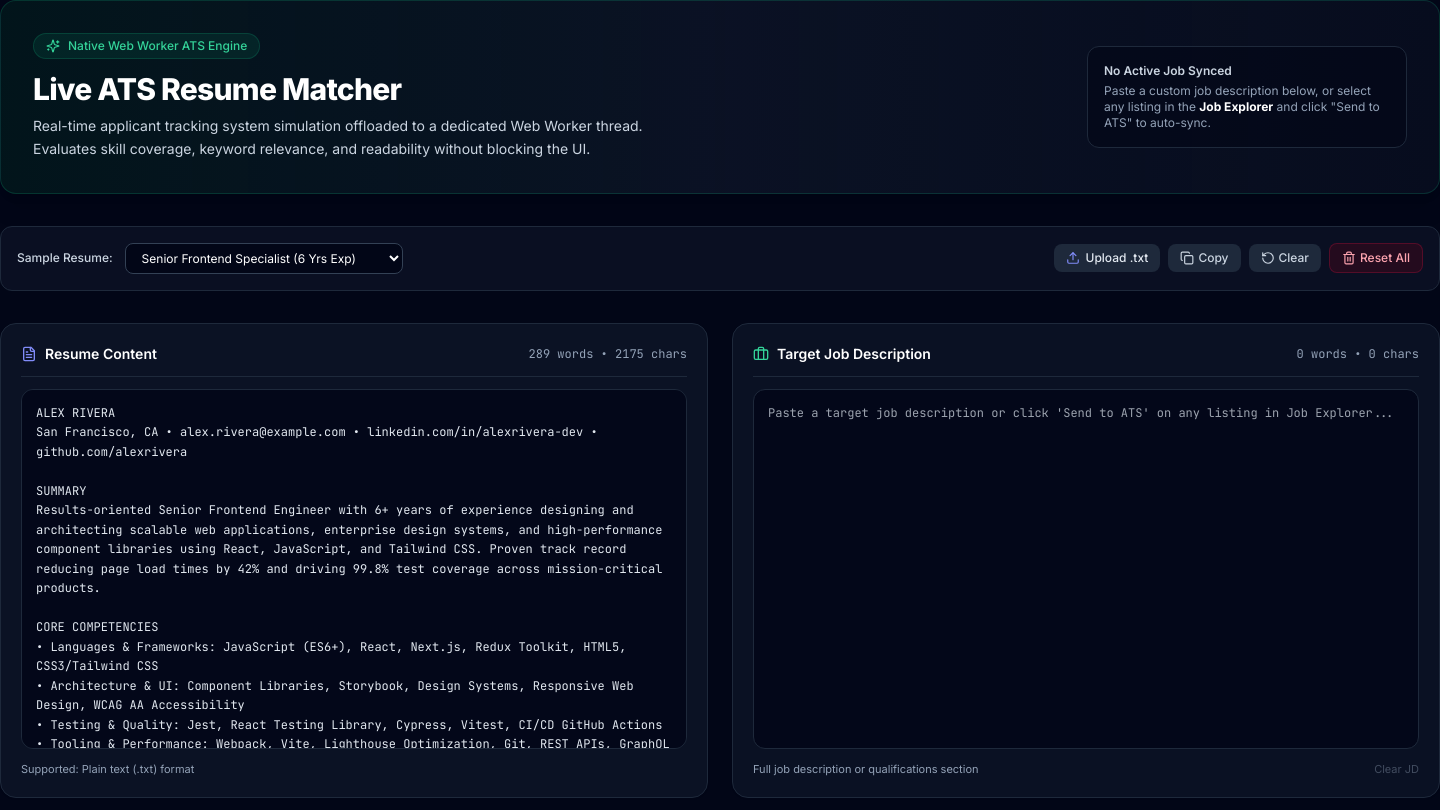
Module 2: Complete ATS Matcher UI Tests › clears both inputs and results when Reset All is clicked
The image size is (1440, 810).
Replace the text in the text box labelled "Target Job Description" with "Testing JD text". click: (1086, 568)
box: [753, 388, 1419, 748]
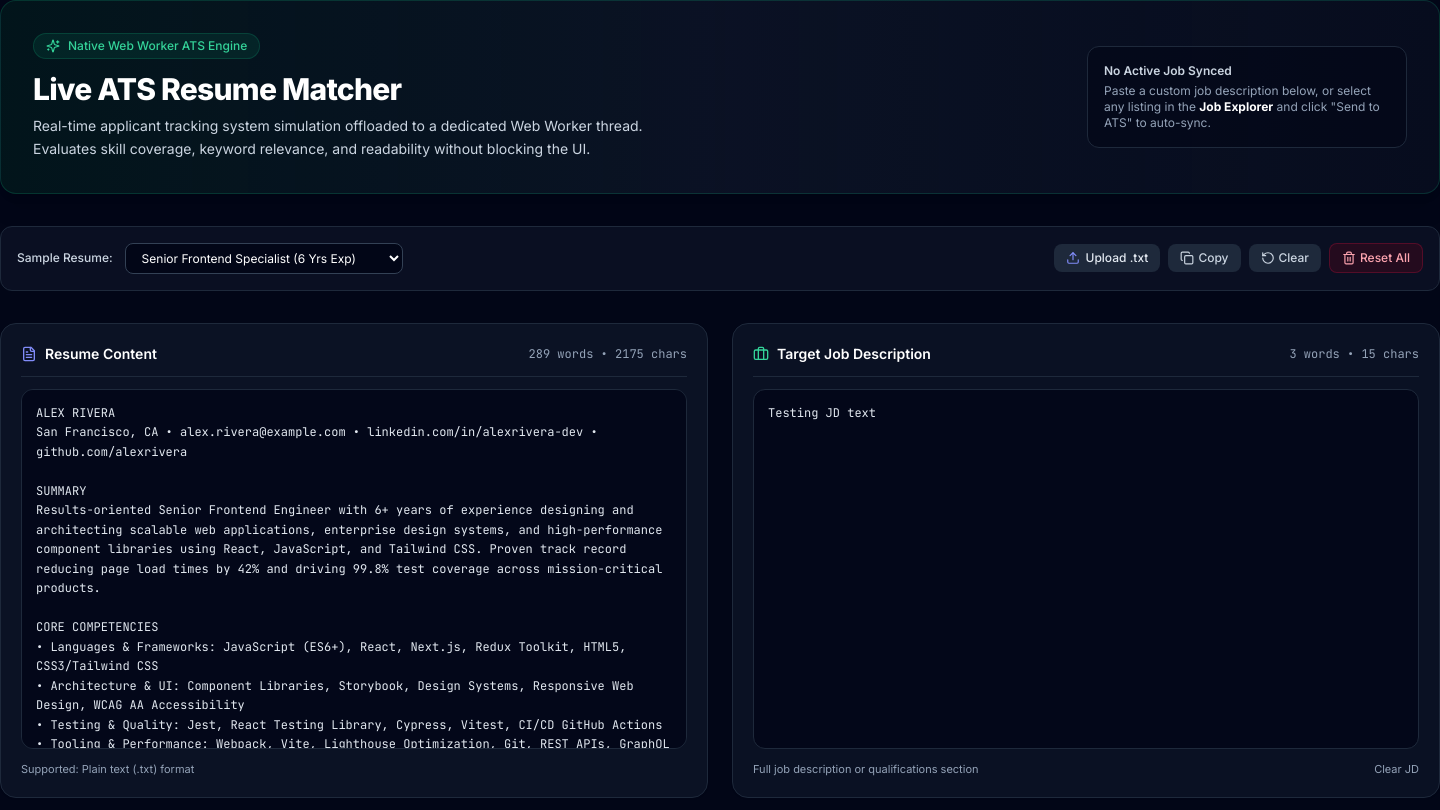
Click the button "Reset All". click: (1376, 258)
box: [1329, 243, 1423, 273]
(page scrolled)
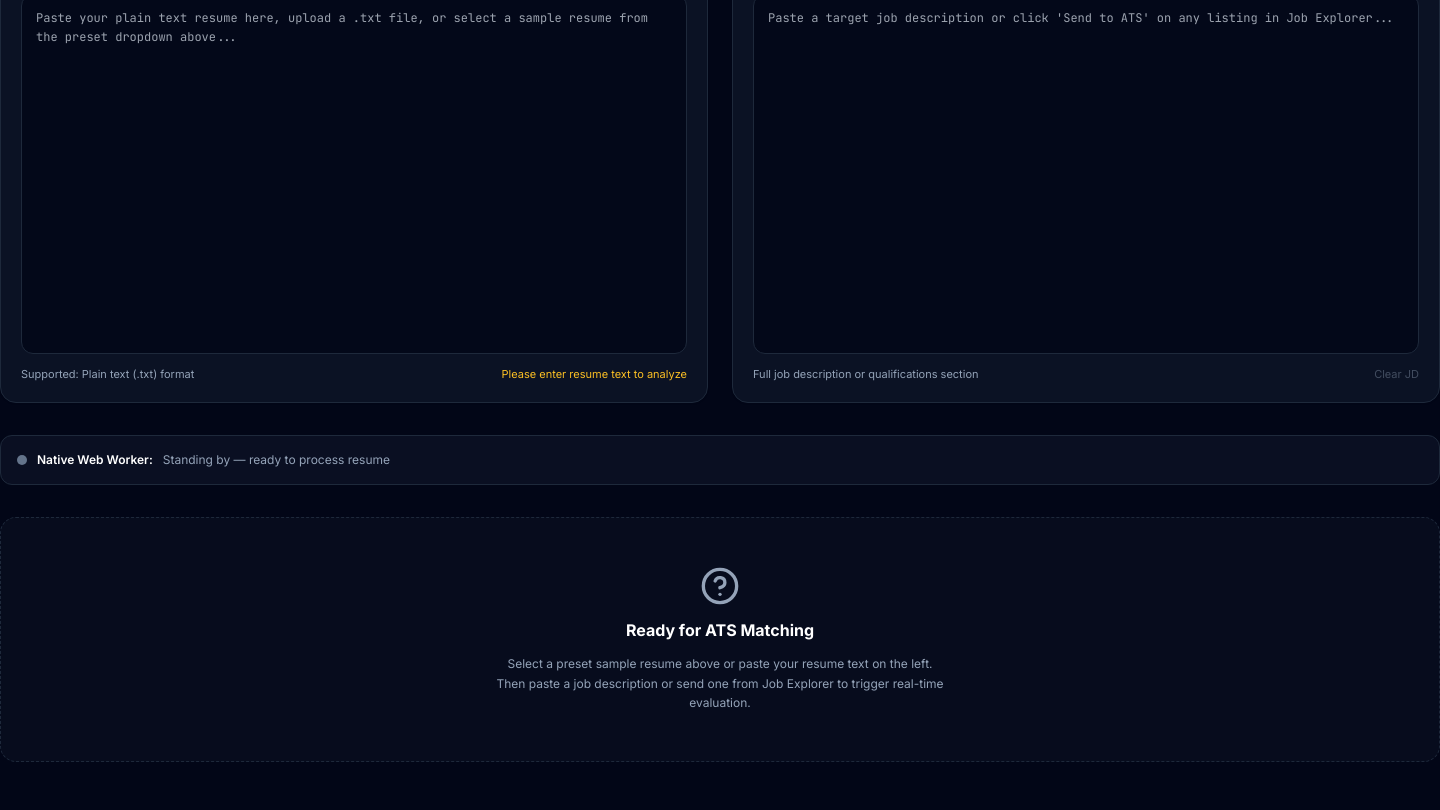
Now the heading "Ready for ATS Matching" is shown, box [626, 620, 814, 640]
